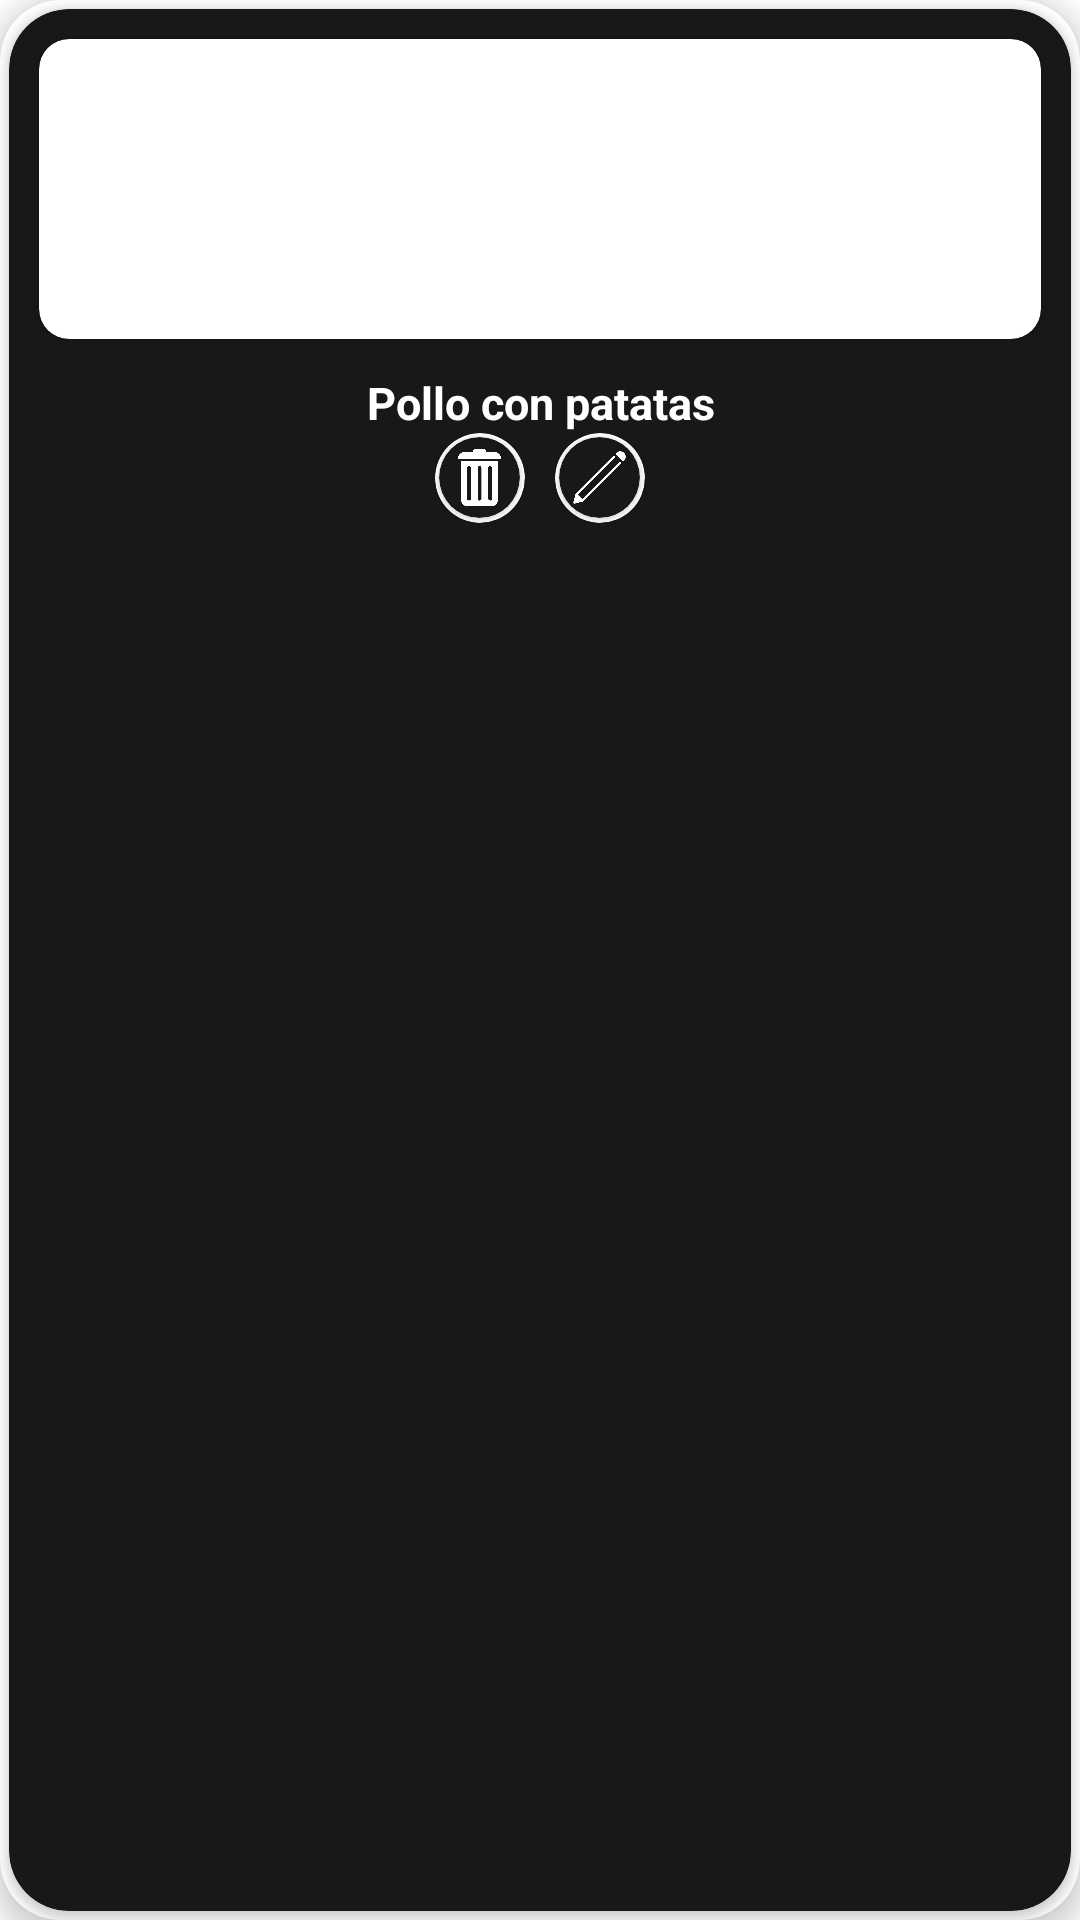

Where to tap for icons on this 1080x1920 app screen, as (x,y):
editar: (599,477)
papelera: (479,477)
